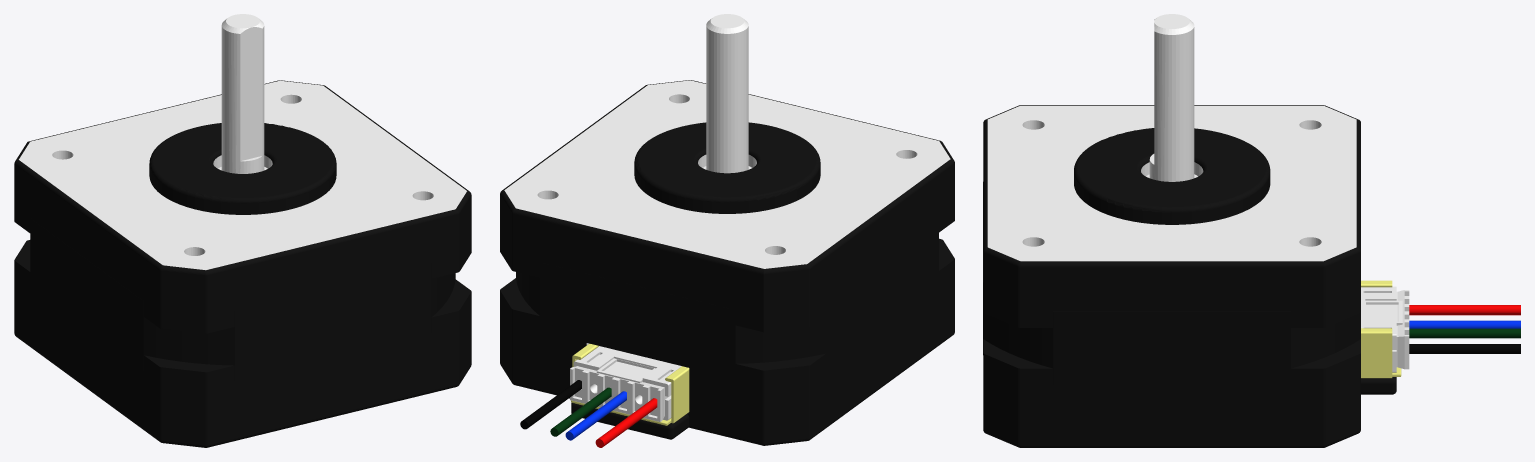
Rendered from stepperonline-17he08-1004s.glb.
3 renders of one model, left to right at view 1: azimuth 30°, elevation 25°; view 2: azimuth 150°, elevation 25°; view 3: azimuth 270°, elevation 25°, orthographic. The views are drawn at different scales.
Parts seen in each view (by area): view 1: stepperonline-17he08-1004s; view 2: stepperonline-17he08-1004s; view 3: stepperonline-17he08-1004s.
Boxes of the visible parts, left/top/right/bottom form: stepperonline-17he08-1004s: left=14, top=14, right=471, bottom=447; stepperonline-17he08-1004s: left=500, top=14, right=954, bottom=447; stepperonline-17he08-1004s: left=983, top=14, right=1520, bottom=447.
Bounding box in the file's own units: 42.32 × 43 × 60.21.
